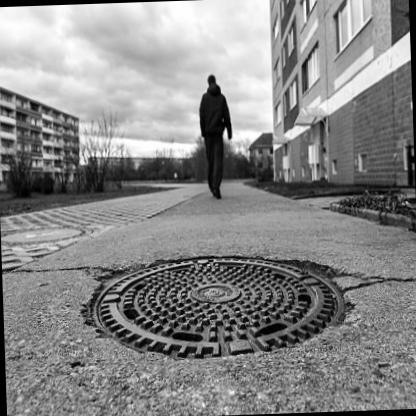manholes: (65, 212, 378, 397)
